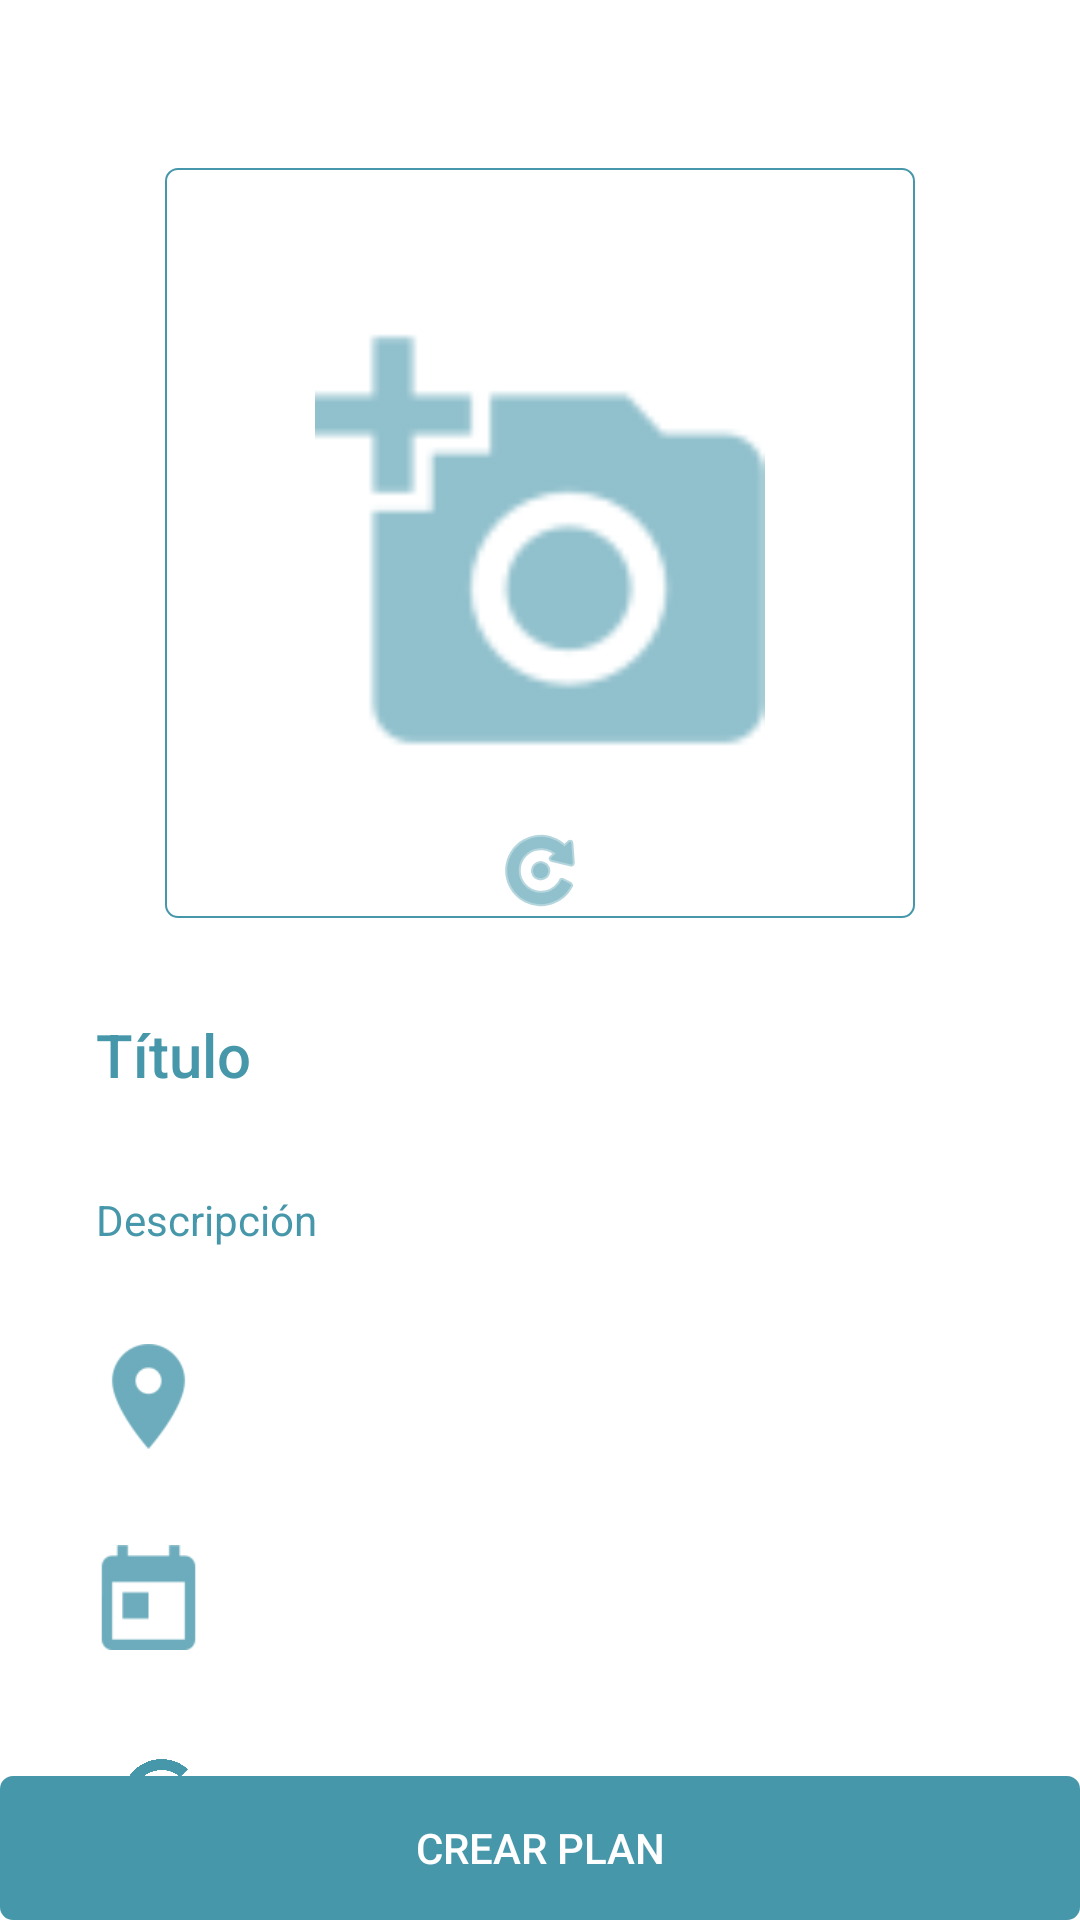

Icons on this 1080×1920 Android screen, each with its box as (x1,y1,x2,y2):
place: (112,1344,185,1449)
rotate: (505,835,575,906)
